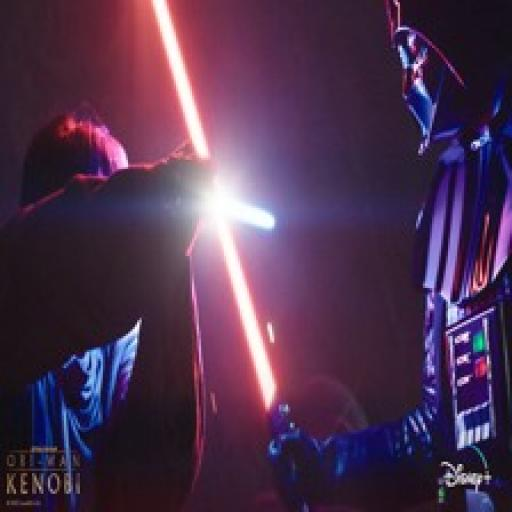human: (272, 0, 512, 512), (0, 107, 219, 511)
lightsaber: (160, 171, 286, 234)
sith saber: (144, 0, 317, 510)
